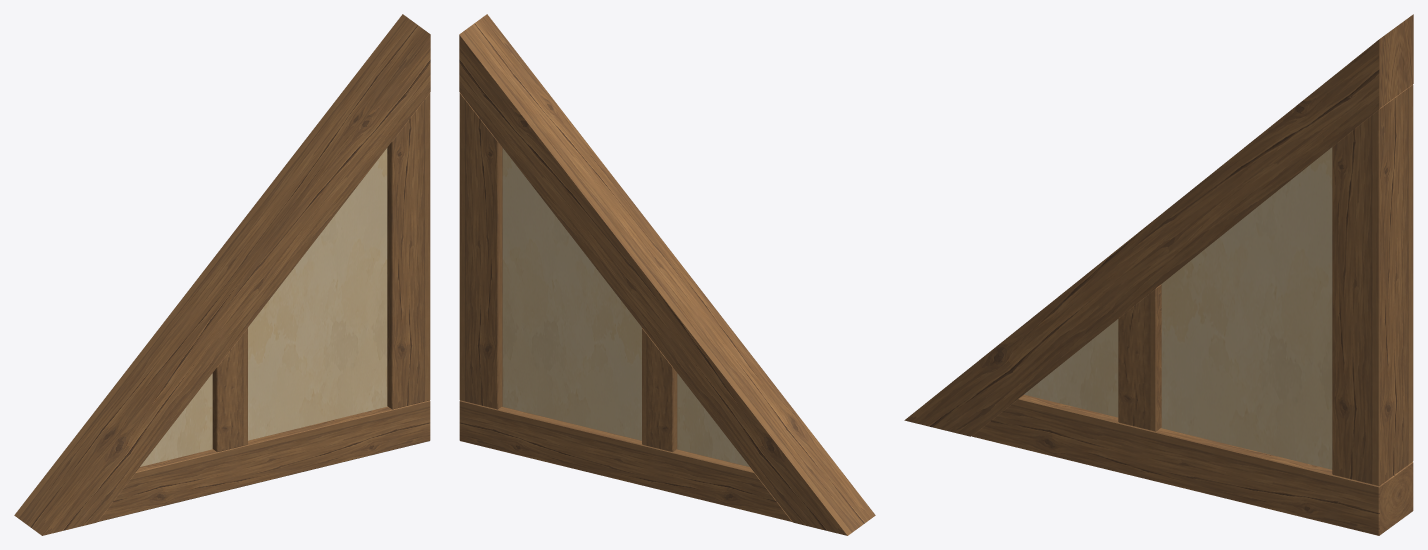
The picture shows the model from 3 angles, left to right: view 1: azimuth 30°, elevation 25°; view 2: azimuth 150°, elevation 25°; view 3: azimuth 330°, elevation 25°; orthographic projection. The views are drawn at different scales.
Parts seen in each view (by area): view 1: L31_Runtime; view 2: L31_Runtime; view 3: L31_Runtime.
Part boxes in pixels (left/top/right/bottom): L31_Runtime: left=14, top=14, right=430, bottom=535; L31_Runtime: left=459, top=14, right=875, bottom=535; L31_Runtime: left=904, top=14, right=1413, bottom=535.
Size of the model in its own units: 200 by 200 by 25.
